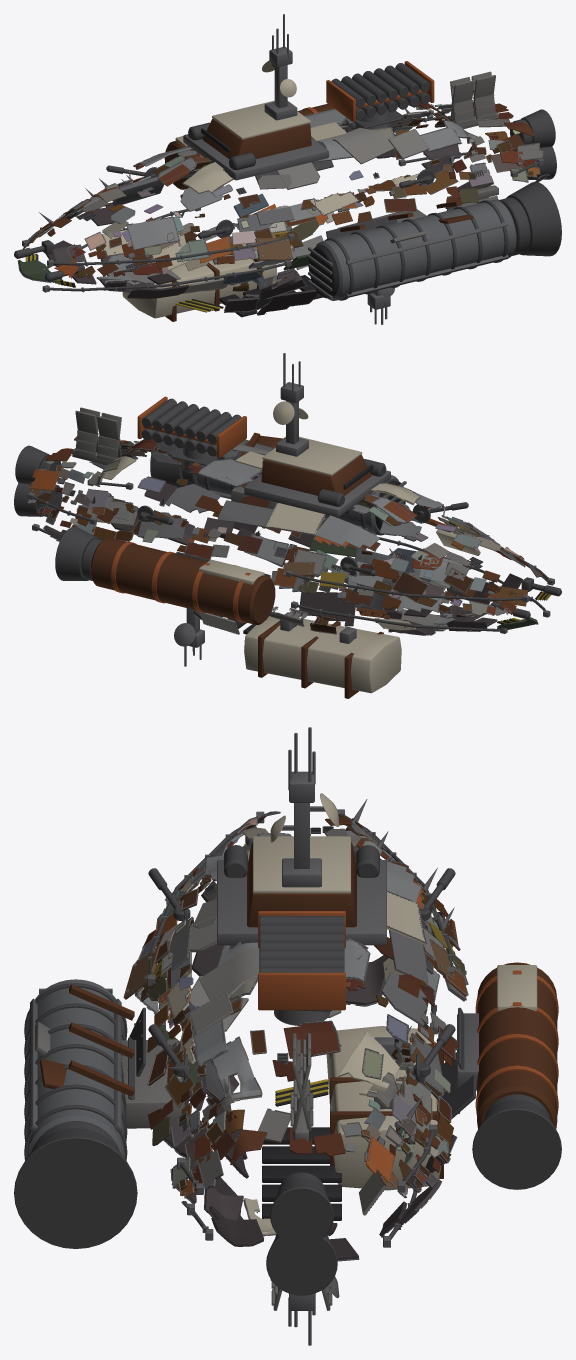
The model's file is C19_51_v15_kit.glb.
3 views of the same model, one above another, from view 1: azimuth 30°, elevation 25°; view 2: azimuth 150°, elevation 25°; view 3: azimuth 270°, elevation 25° (orthographic). The views are drawn at different scales.
Parts seen in each view (by area): view 1: C19v15_kit; view 2: C19v15_kit; view 3: C19v15_kit.
Boxes of the visible parts, bbox=[...] form: C19v15_kit: bbox=[14, 14, 561, 324]; C19v15_kit: bbox=[14, 353, 561, 698]; C19v15_kit: bbox=[14, 727, 561, 1345].
Size of the model in its own units: 0.9649 by 0.5948 by 0.5475.
